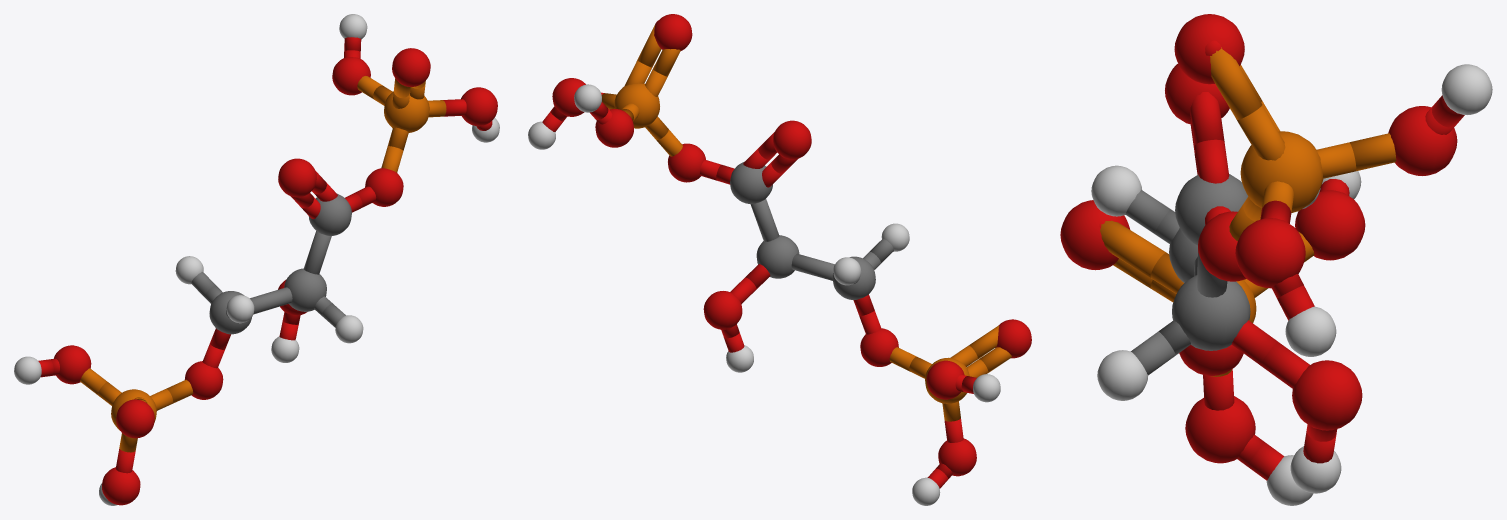
Rendered from 1_3_bisphosphoglycerate.obj.
The picture shows the model from 3 angles, left to right: view 1: azimuth 30°, elevation 25°; view 2: azimuth 150°, elevation 25°; view 3: azimuth 270°, elevation 25°; orthographic projection. The views are drawn at different scales.
Parts seen in each view (by area): view 1: ShapeSphere.012_ShapeSphere.025, ShapeSphere.001_ShapeSphere.023, ShapeSphere.010_ShapeSphere.024, ShapeSphere.005_ShapeSphere.024, ShapeSphere.014_ShapeSphere.025, ShapeSphere.011_ShapeSphere.024, ShapeSphere.006_ShapeSphere.024, ShapeSphere.008_ShapeSphere.024, ShapeSphere.004_ShapeSphere.024, ShapeSphere.002_ShapeSphere.024, ShapeSphere.009_ShapeSphere.024, ShapeSphere.007_ShapeSphere.024 (+10 smaller); view 2: ShapeSphere.012_ShapeSphere.025, ShapeSphere.001_ShapeSphere.023, ShapeSphere.014_ShapeSphere.025, ShapeSphere.005_ShapeSphere.024, ShapeSphere.003_ShapeSphere.024, ShapeSphere.011_ShapeSphere.024, ShapeSphere.007_ShapeSphere.024, ShapeSphere.002_ShapeSphere.024, ShapeSphere.006_ShapeSphere.024, ShapeSphere.009_ShapeSphere.024, ShapeSphere.004_ShapeSphere.024, ShapeSphere.010_ShapeSphere.024 (+11 smaller); view 3: ShapeSphere.012_ShapeSphere.025, ShapeSphere.001_ShapeSphere.023, ShapeSphere.003_ShapeSphere.024, ShapeSphere.008_ShapeSphere.024, ShapeSphere.007_ShapeSphere.024, ShapeSphere.006_ShapeSphere.024, ShapeSphere.009_ShapeSphere.024, ShapeSphere.011_ShapeSphere.024, ShapeSphere.010_ShapeSphere.024, ShapeSphere.014_ShapeSphere.025, ShapeSphere.004_ShapeSphere.024, ShapeSphere.022_ShapeSphere.026 (+30 smaller).
Boxes of the visible parts, x1=… form: ShapeSphere.012_ShapeSphere.025: x1=284, y1=268, x2=326, y2=311; ShapeSphere.001_ShapeSphere.023: x1=384, y1=91, x2=429, y2=132; ShapeSphere.010_ShapeSphere.024: x1=116, y1=399, x2=154, y2=438; ShapeSphere.005_ShapeSphere.024: x1=278, y1=158, x2=316, y2=197; ShapeSphere.014_ShapeSphere.025: x1=308, y1=193, x2=351, y2=235; ShapeSphere.011_ShapeSphere.024: x1=392, y1=48, x2=430, y2=86; ShapeSphere.006_ShapeSphere.024: x1=102, y1=467, x2=140, y2=505; ShapeSphere.008_ShapeSphere.024: x1=461, y1=87, x2=497, y2=126; ShapeSphere.004_ShapeSphere.024: x1=365, y1=168, x2=403, y2=206; ShapeSphere.002_ShapeSphere.024: x1=184, y1=361, x2=223, y2=399; ShapeSphere.009_ShapeSphere.024: x1=332, y1=57, x2=370, y2=95; ShapeSphere.007_ShapeSphere.024: x1=54, y1=345, x2=91, y2=384; ShapeSphere.012_ShapeSphere.025: x1=756, y1=235, x2=799, y2=278; ShapeSphere.001_ShapeSphere.023: x1=614, y1=83, x2=659, y2=128; ShapeSphere.014_ShapeSphere.025: x1=730, y1=161, x2=772, y2=204; ShapeSphere.005_ShapeSphere.024: x1=773, y1=120, x2=811, y2=159; ShapeSphere.003_ShapeSphere.024: x1=703, y1=291, x2=742, y2=329; ShapeSphere.011_ShapeSphere.024: x1=654, y1=14, x2=692, y2=50; ShapeSphere.007_ShapeSphere.024: x1=926, y1=360, x2=964, y2=399; ShapeSphere.002_ShapeSphere.024: x1=860, y1=328, x2=898, y2=366; ShapeSphere.006_ShapeSphere.024: x1=938, y1=438, x2=976, y2=476; ShapeSphere.009_ShapeSphere.024: x1=595, y1=109, x2=633, y2=147; ShapeSphere.004_ShapeSphere.024: x1=668, y1=143, x2=705, y2=182; ShapeSphere.010_ShapeSphere.024: x1=995, y1=319, x2=1031, y2=358; ShapeSphere.012_ShapeSphere.025: x1=1172, y1=275, x2=1250, y2=350; ShapeSphere.001_ShapeSphere.023: x1=1240, y1=131, x2=1323, y2=212; ShapeSphere.003_ShapeSphere.024: x1=1292, y1=360, x2=1362, y2=430; ShapeSphere.008_ShapeSphere.024: x1=1235, y1=218, x2=1305, y2=288; ShapeSphere.007_ShapeSphere.024: x1=1295, y1=190, x2=1365, y2=260; ShapeSphere.006_ShapeSphere.024: x1=1185, y1=396, x2=1255, y2=463; ShapeSphere.009_ShapeSphere.024: x1=1388, y1=106, x2=1457, y2=175; ShapeSphere.011_ShapeSphere.024: x1=1174, y1=14, x2=1244, y2=84; ShapeSphere.010_ShapeSphere.024: x1=1060, y1=200, x2=1130, y2=270; ShapeSphere.014_ShapeSphere.025: x1=1175, y1=174, x2=1248, y2=245; ShapeSphere.004_ShapeSphere.024: x1=1198, y1=211, x2=1246, y2=281; ShapeSphere.022_ShapeSphere.026: x1=1441, y1=64, x2=1492, y2=114.
Size of the model in its own units: 9.83 by 7.99 by 4.29.
